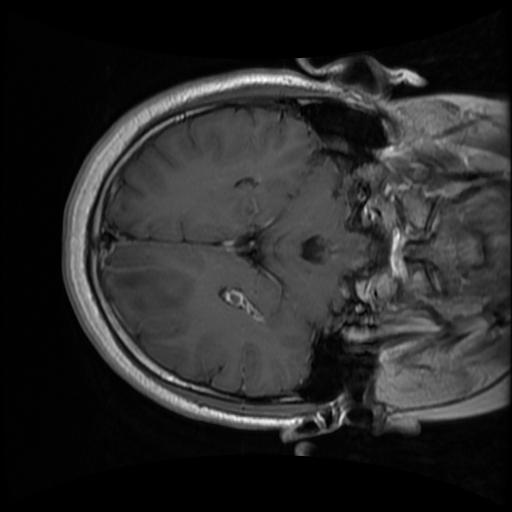glioma: (105, 267, 191, 338)
